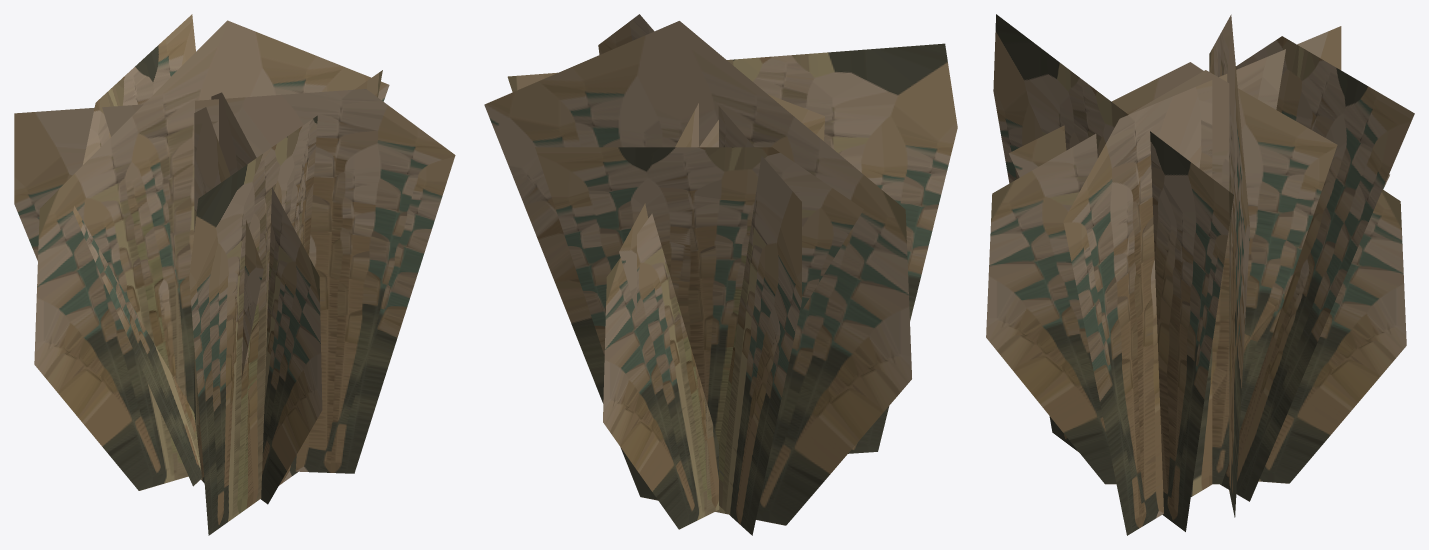
The model's file is SM_Grass_01a.fbx.
3 views of the same model, side by side, from view 1: azimuth 30°, elevation 25°; view 2: azimuth 150°, elevation 25°; view 3: azimuth 270°, elevation 25° (orthographic). The views are drawn at different scales.
Parts seen in each view (by area): view 1: SM_Grass_01a_LOD0; view 2: SM_Grass_01a_LOD0; view 3: SM_Grass_01a_LOD0.
Boxes of the visible parts, x1,y1,x2,y2 form: SM_Grass_01a_LOD0: [14, 14, 455, 535]; SM_Grass_01a_LOD0: [484, 14, 957, 535]; SM_Grass_01a_LOD0: [986, 14, 1414, 535].
Bounding box in the file's own units: 38.99 × 35.36 × 44.27.
